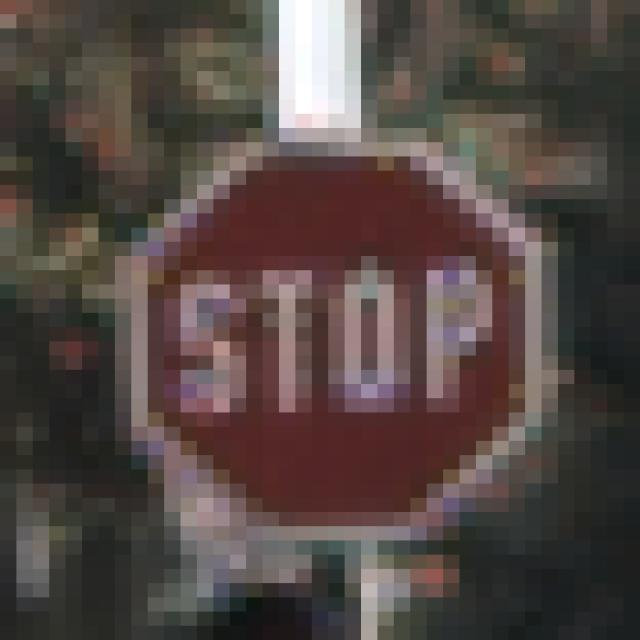STOP: (83, 72, 543, 556)
